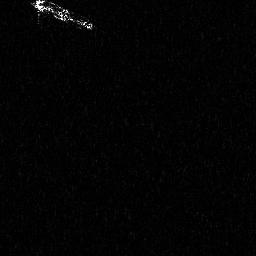ship: (27, 1, 96, 33)
